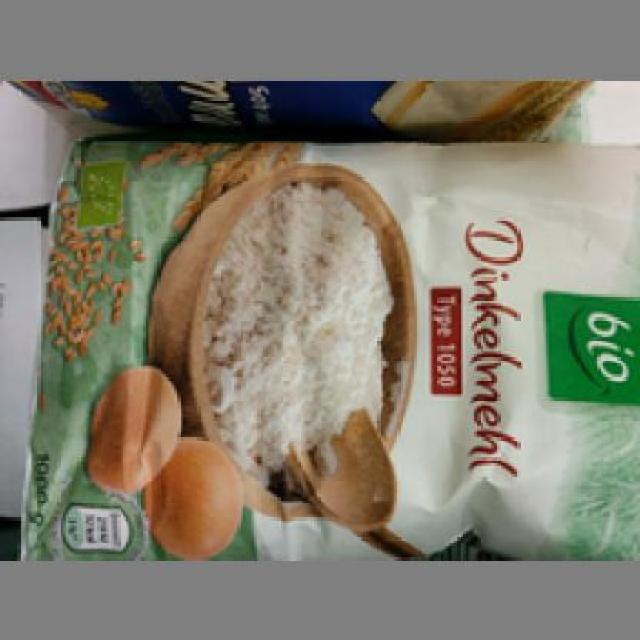Flour: (20, 134, 637, 557)
